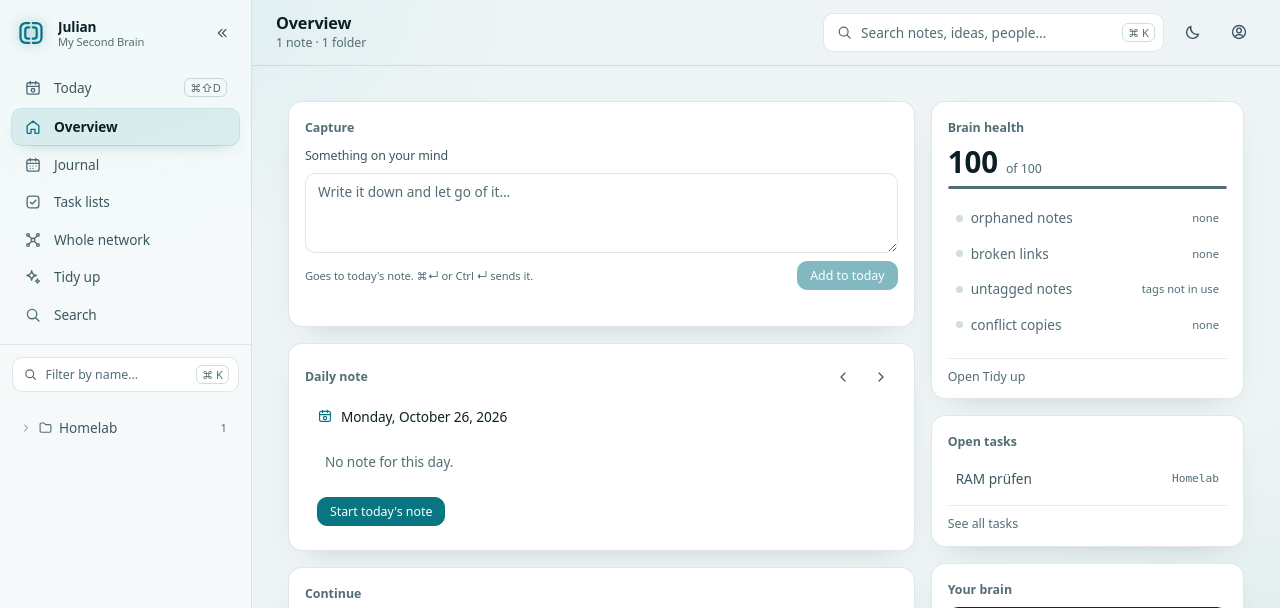
the ways that led to the task list › lead from the home card into the journal
Click the button "See all tasks".
click(983, 524)  # box [948,505,1227,534]
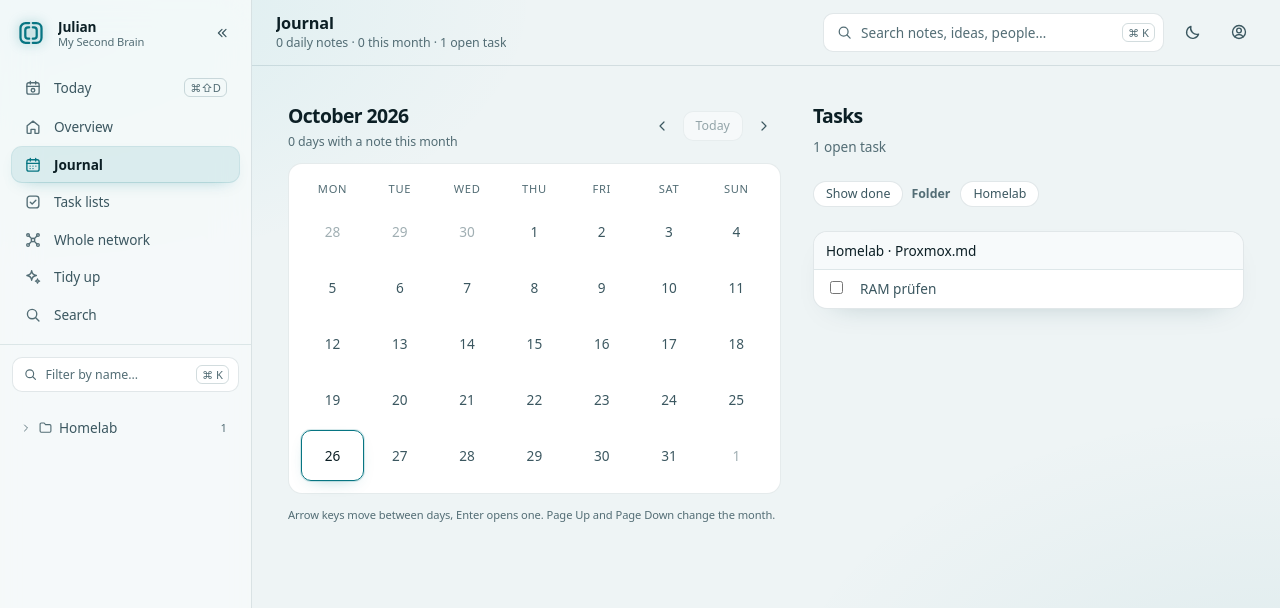
Check: the table that starts with "Mon" is shown, box [288,163,781,494]
